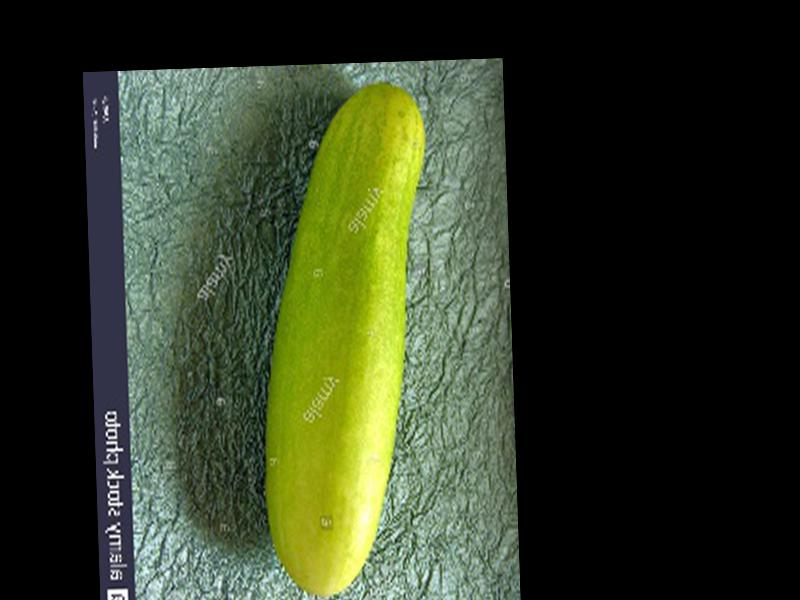Cucumber: (253, 80, 440, 598)
